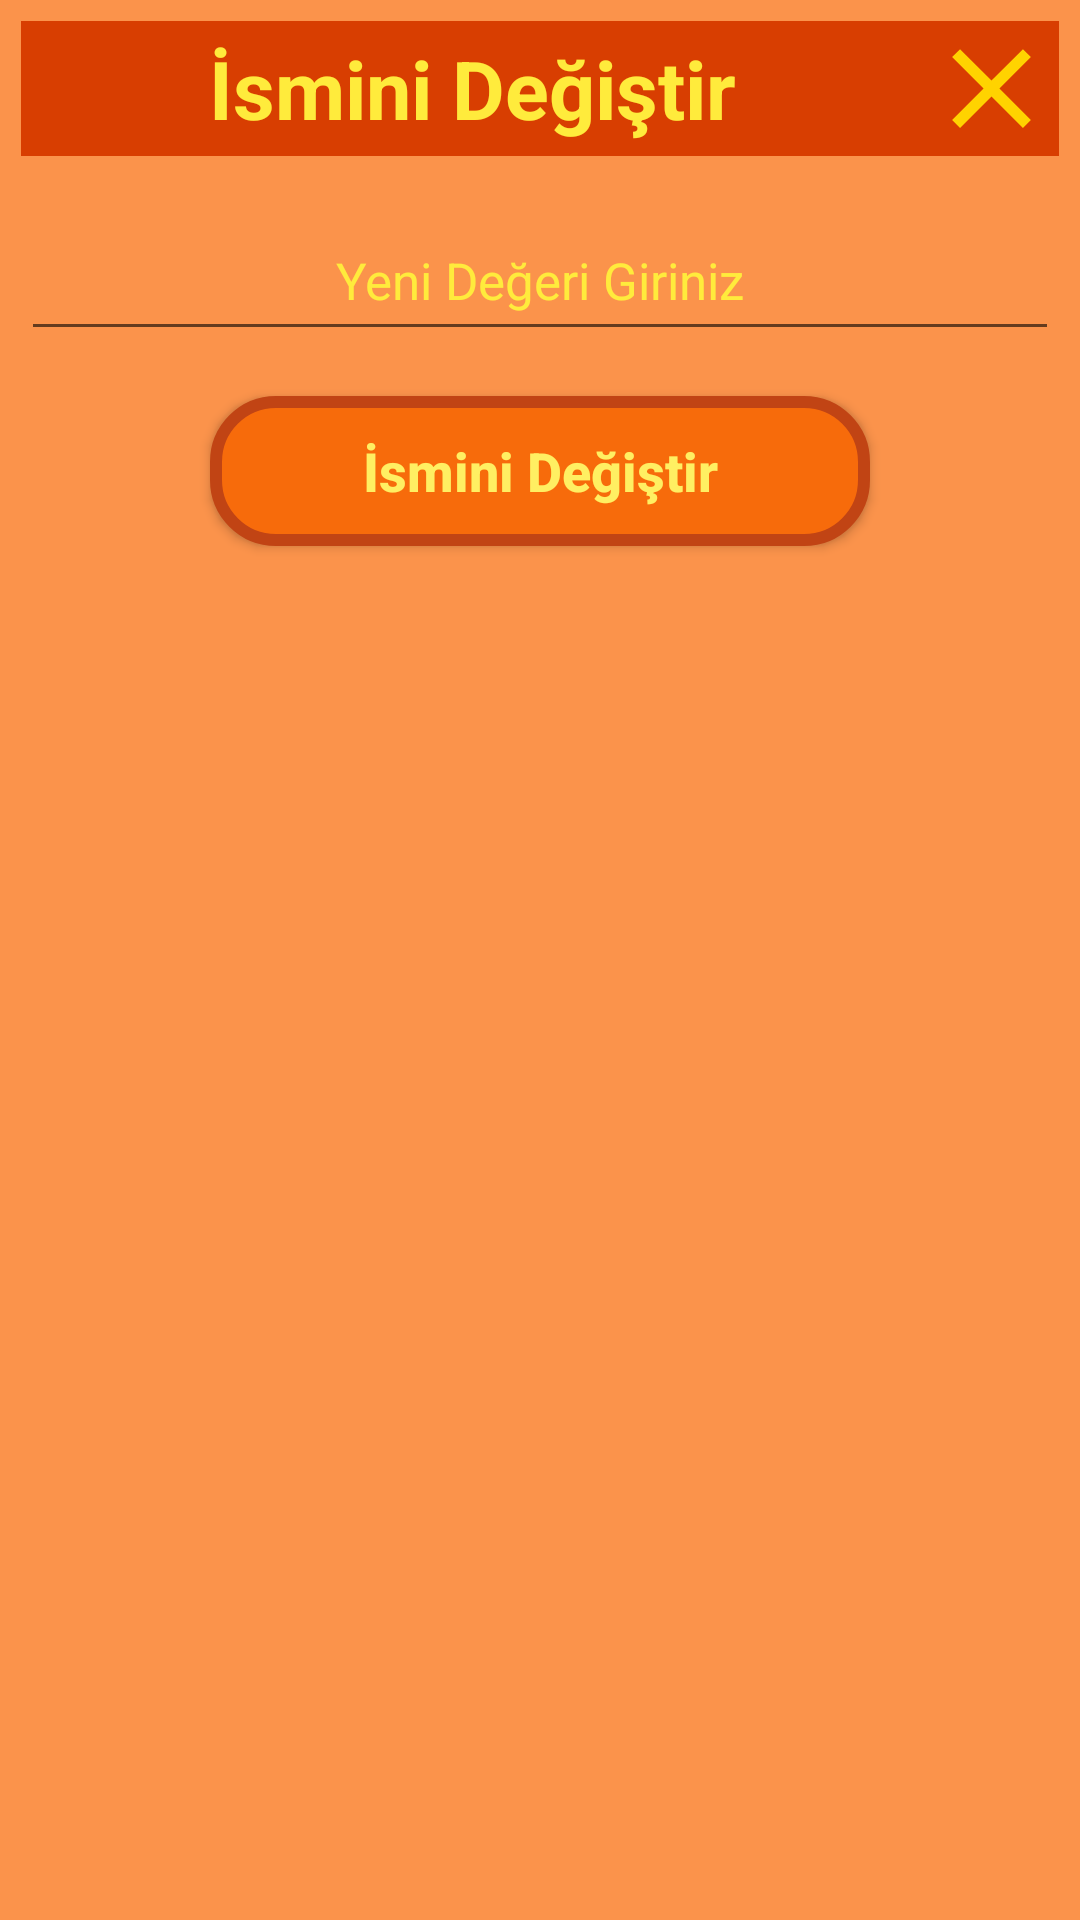

Where icons sit on this 1080×1920 app screen, as (x1, y1, x2, y2):
close: (924, 21, 1059, 156)
